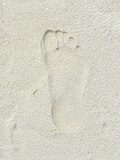human_foot_print: (42, 30, 88, 132)
